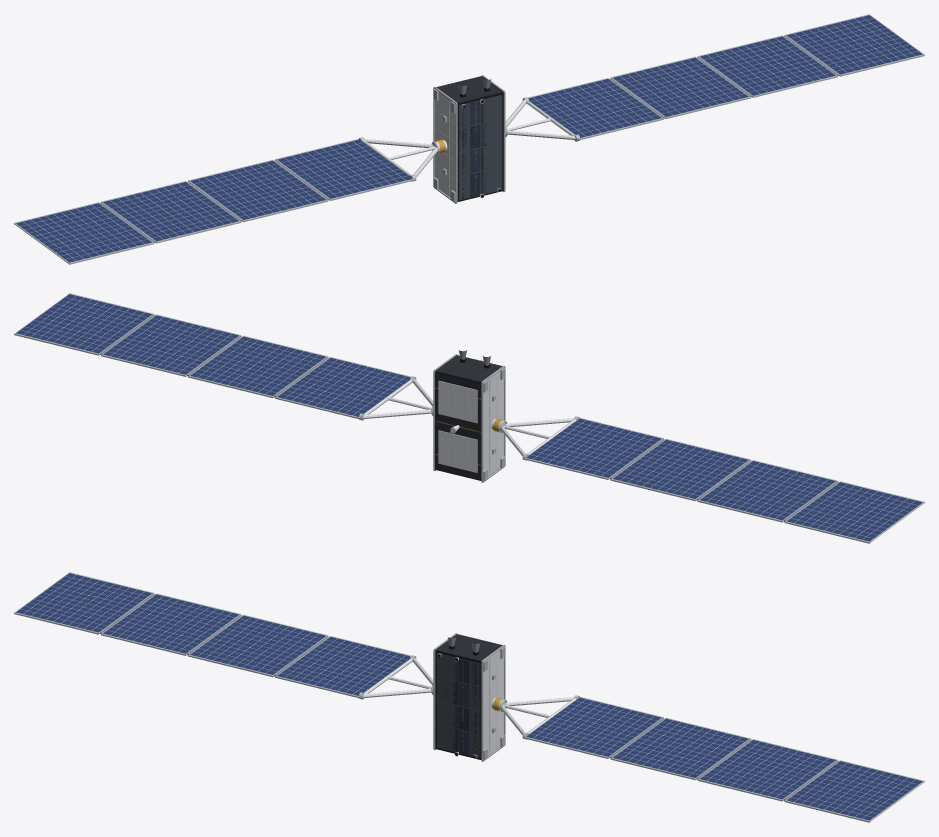
The model's file is o3b-mpower.glb.
3 renders of one model, top to bottom at view 1: azimuth 30°, elevation 25°; view 2: azimuth 150°, elevation 25°; view 3: azimuth 330°, elevation 25°, orthographic.
Parts seen in each view (by area): view 1: solar-panel, body, foil; view 2: solar-panel, body, foil; view 3: solar-panel, body, foil.
Boxes of the visible parts, <box> form: solar-panel: <box>16,15,922,262</box>; body: <box>14,14,924,264</box>; foil: <box>436,76,502,153</box>; solar-panel: <box>16,294,922,541</box>; body: <box>14,293,924,543</box>; foil: <box>435,355,502,480</box>; solar-panel: <box>16,573,922,820</box>; body: <box>14,572,924,822</box>; foil: <box>436,634,502,711</box>.
Size of the model in its own units: 27.08 by 3.49 by 3.04.
